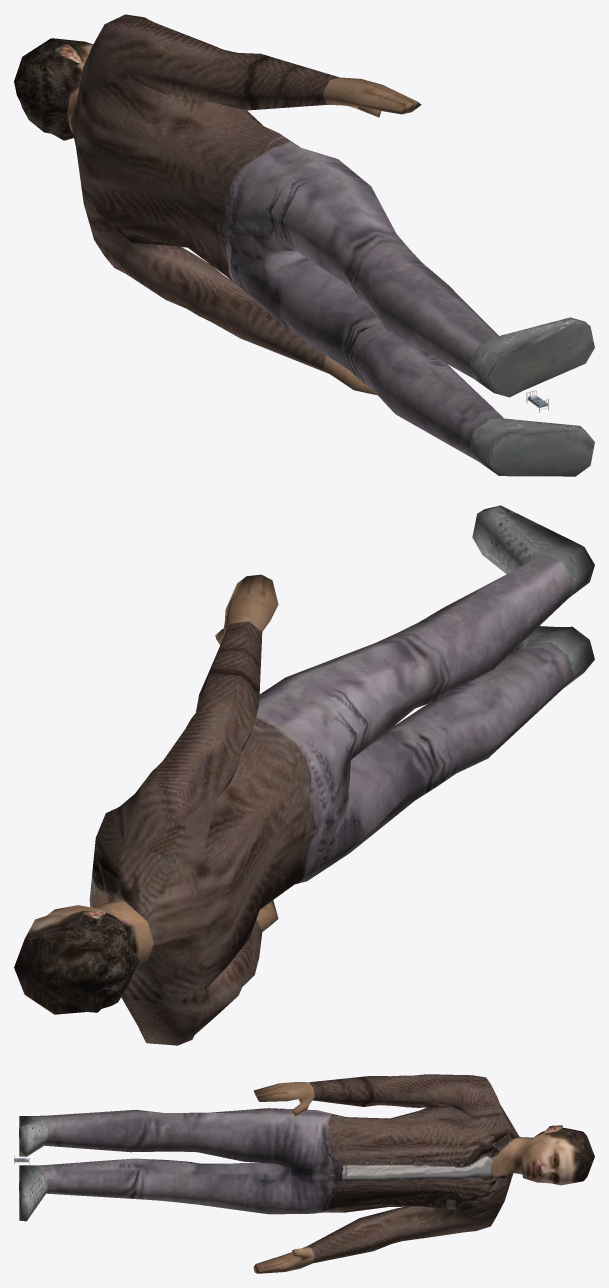
The model's file is clean_end_cat.glb.
3 views of the same model, one above another, from view 1: azimuth 30°, elevation 25°; view 2: azimuth 150°, elevation 25°; view 3: azimuth 270°, elevation 25° (orthographic). The views are drawn at different scales.
Parts seen in each view (by area): view 1: Character_04; view 2: Character_04; view 3: Character_04.
Part boxes in pixels (left/top/right/bottom): Character_04: left=14, top=14, right=594, bottom=476; Character_04: left=14, top=505, right=594, bottom=1045; Character_04: left=14, top=1074, right=594, bottom=1273.
Bounding box in the file's own units: 92.32 × 166 × 470.
3 materials, 3 textured.
